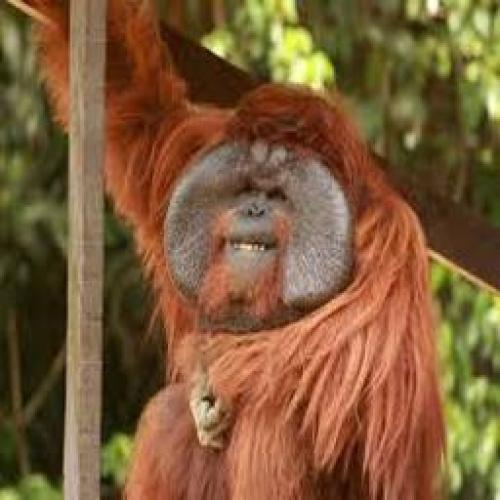orangutan-endangered: (43, 0, 432, 500)
